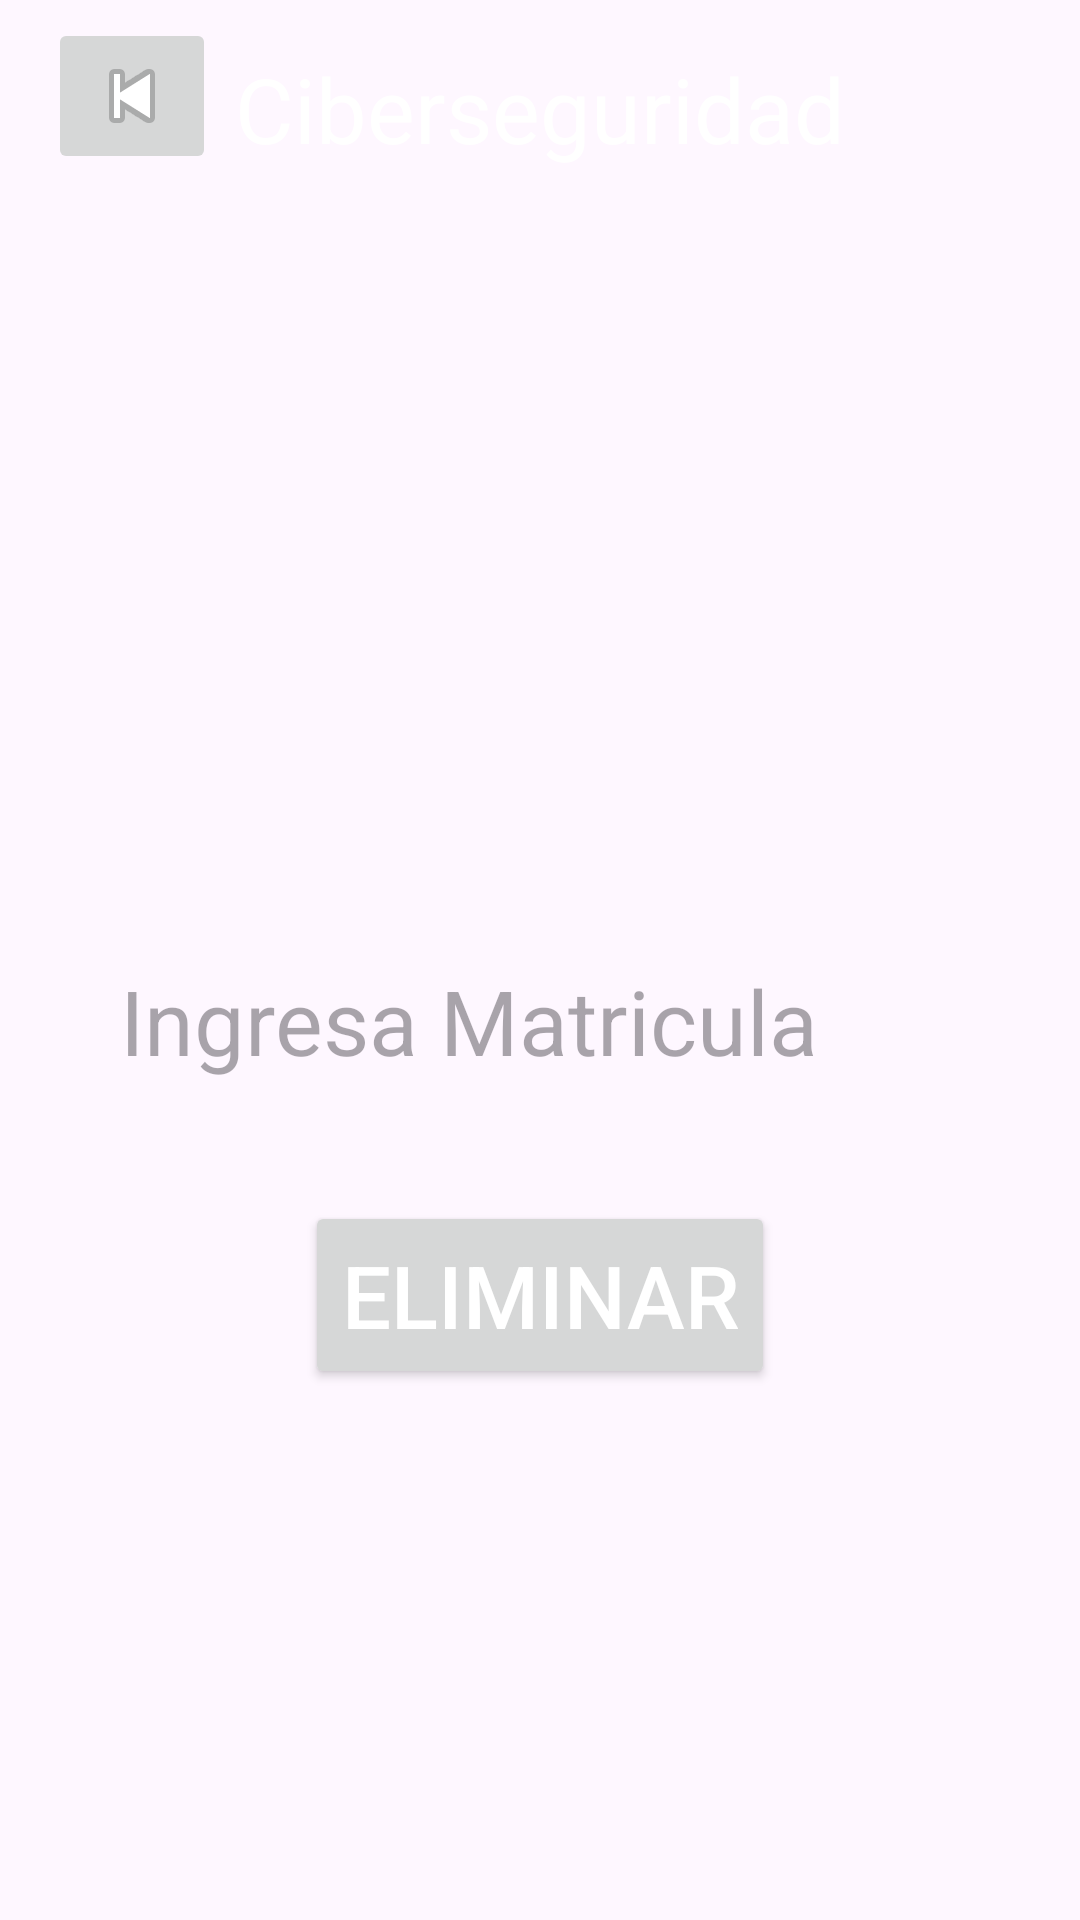

Icons on this 1080×1920 Android screen, each with its box as (x1, y1, x2, y2):
previous: (60, 36, 204, 156)
